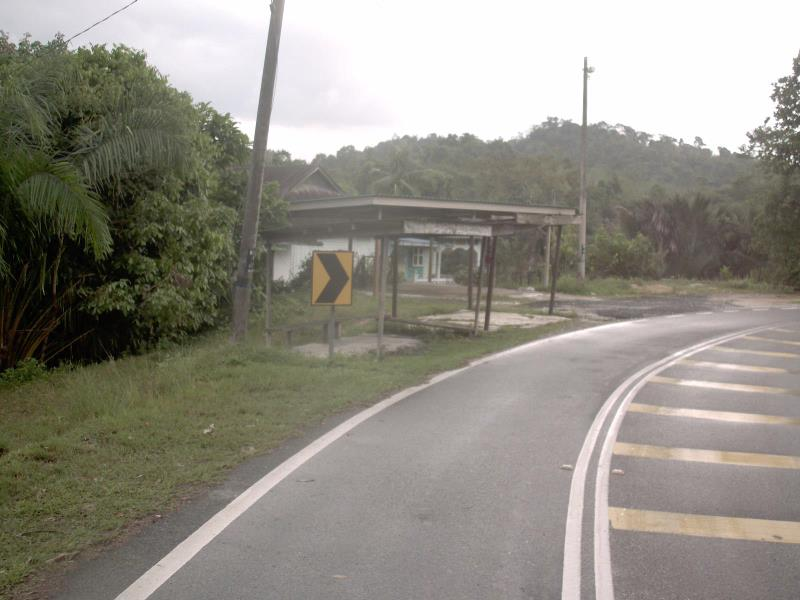traffic_sign: (304, 241, 362, 316)
